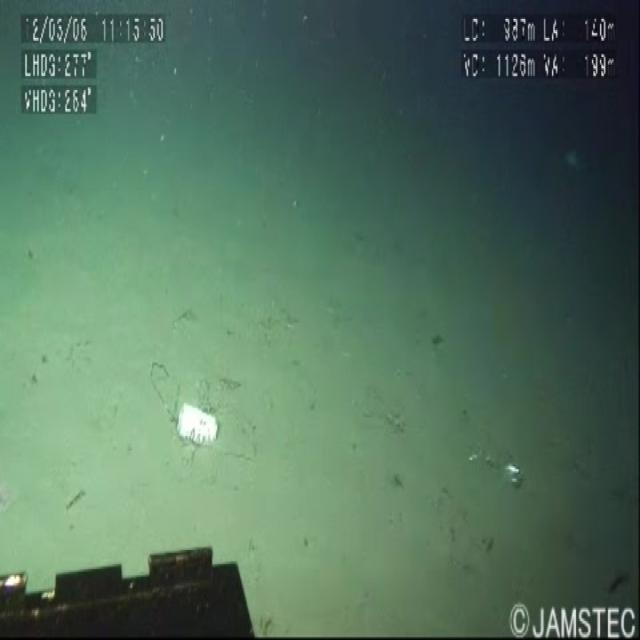Metal: (167, 397, 222, 465)
